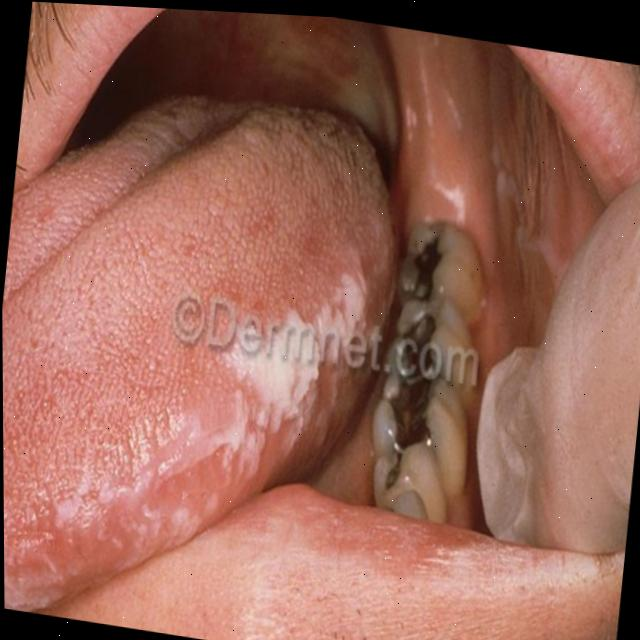Shingles: (35, 244, 405, 603)
